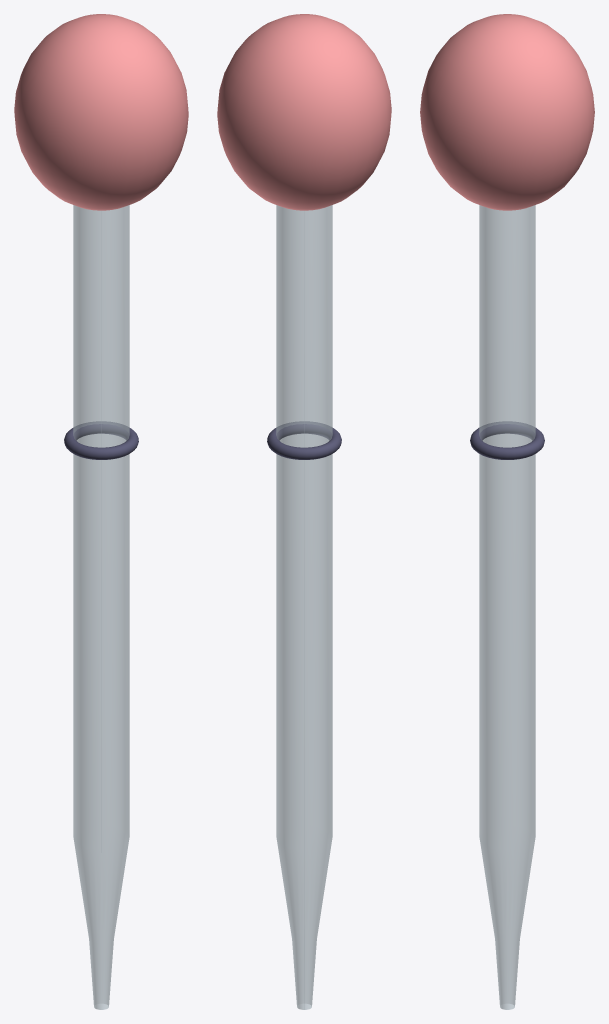
The model's file is pipette.glb.
3 renders of one model, left to right at view 1: azimuth 30°, elevation 25°; view 2: azimuth 150°, elevation 25°; view 3: azimuth 270°, elevation 25°, orthographic.
Parts seen in each view (by area): view 1: pipette; view 2: pipette; view 3: pipette.
Boxes of the visible parts, x1=… form: pipette: x1=14, y1=14, x2=188, y2=1009; pipette: x1=217, y1=14, x2=391, y2=1009; pipette: x1=420, y1=14, x2=594, y2=1009.
Bounding box in the file's own units: 0.28 × 1.74 × 0.28.
